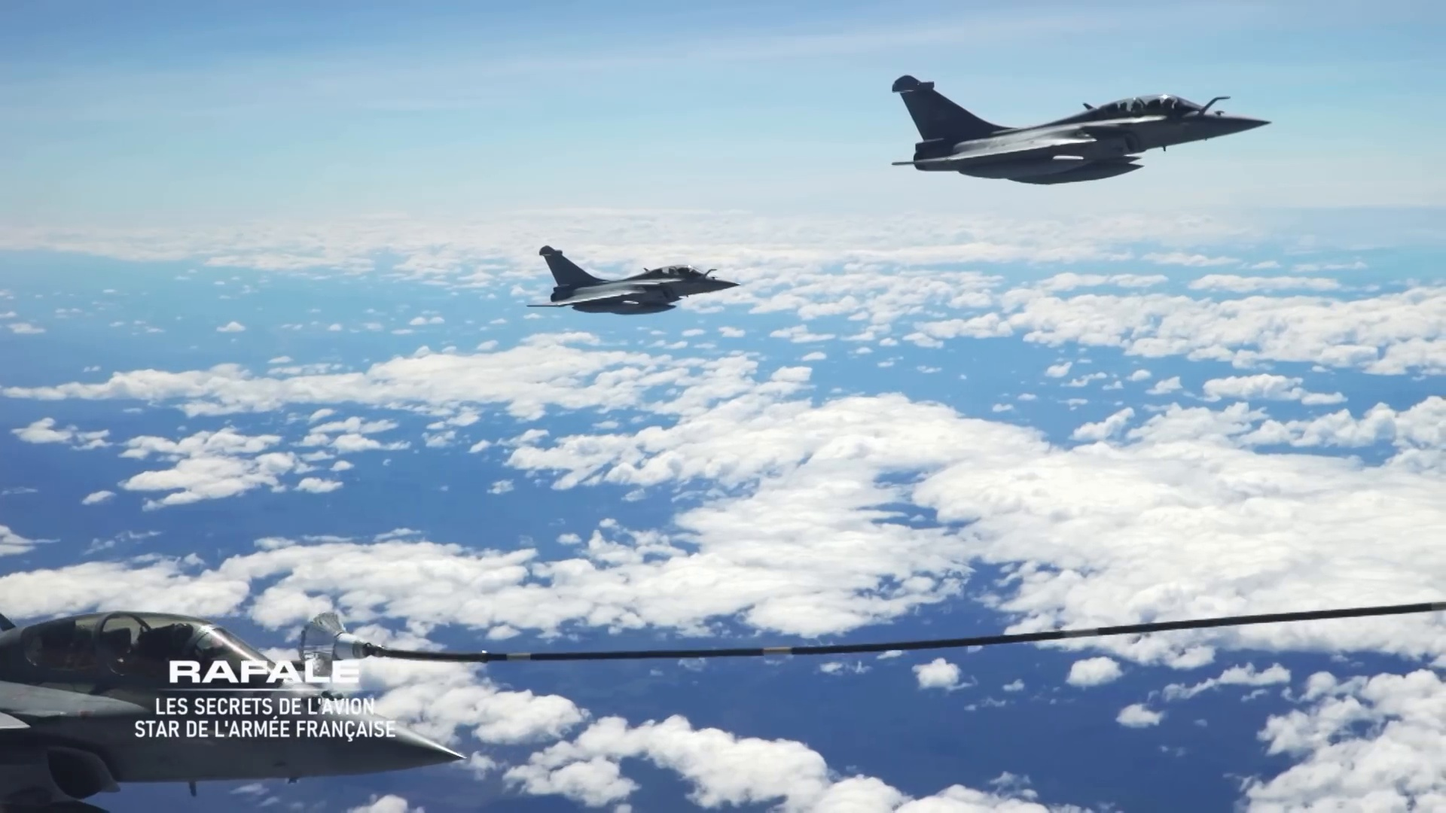Rafale: (0, 575, 487, 813), (879, 57, 1282, 193), (520, 234, 741, 328)
